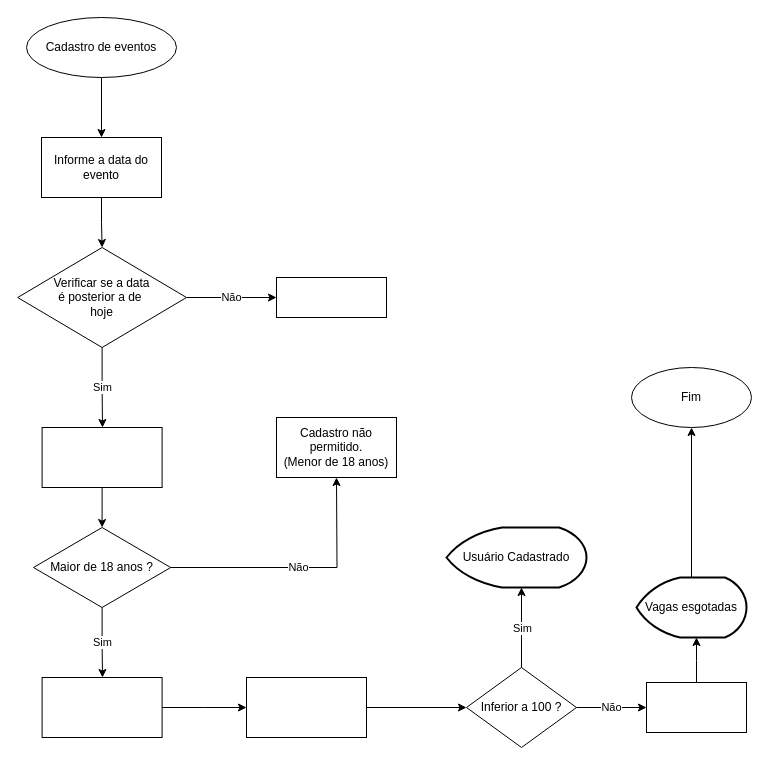
Image size: 769x765. Some labels were removed from this diagram. The centre of each missing label's shape, as x and y in pixels:
"Data Inválida" belongs at (331,297).
"Digite sua idade" belongs at (101,457).
"limite de participantes excedido." belongs at (696,707).
"Permitir cadastro" belongs at (101,707).
"Verificar a quantidade de participantes" belongs at (306,707).
